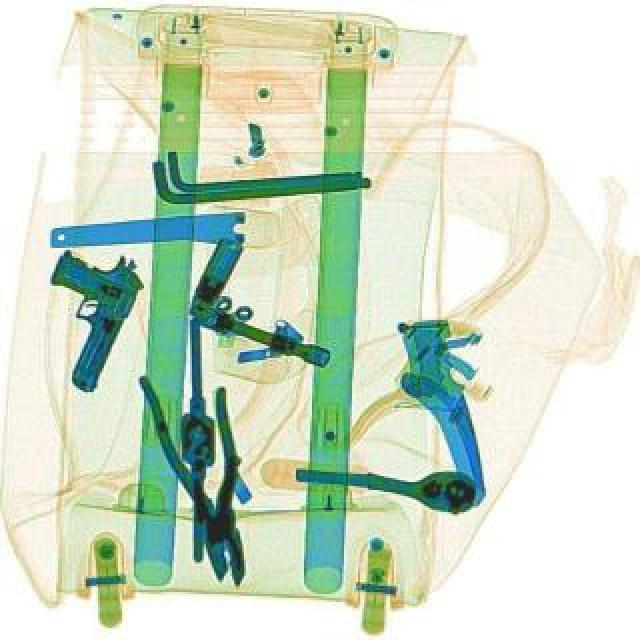gun: (8, 236, 152, 396)
wrench: (138, 366, 264, 598)
